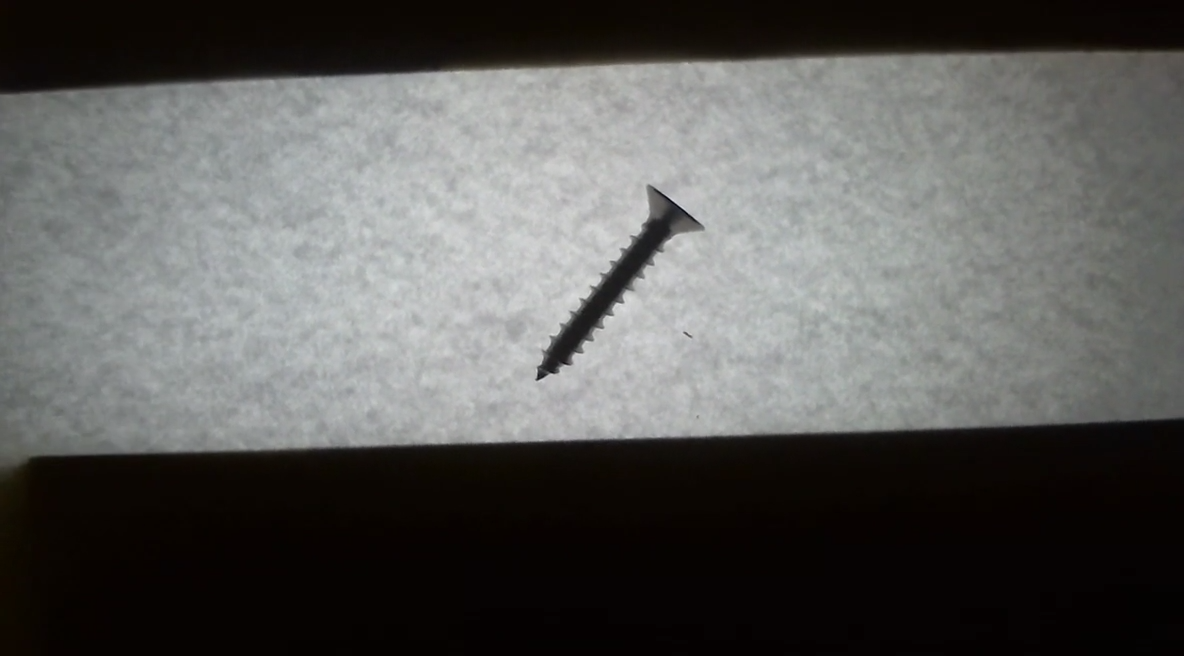S001: (503, 171, 719, 390)
